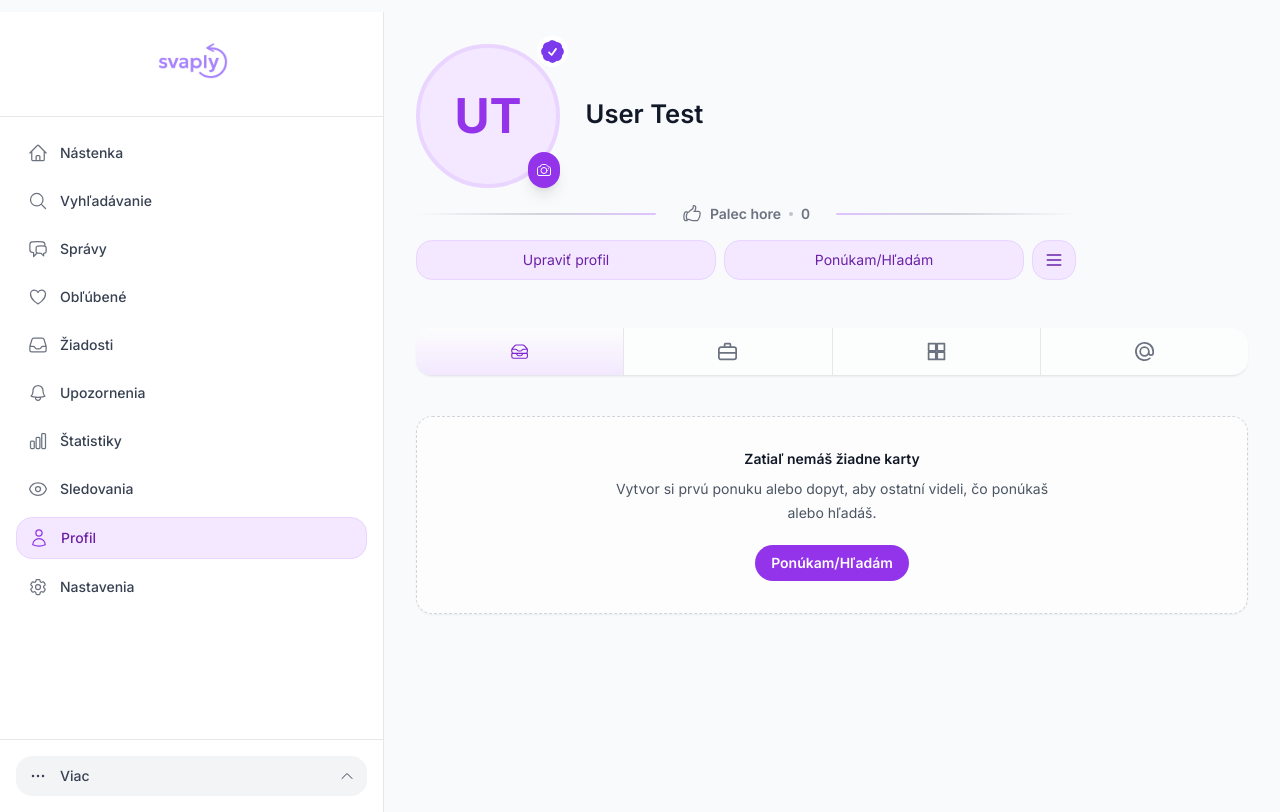
Test: Dashboard: scroll po uložení profilu naprieč zmenou obrazovky › desktop: po uložení zo scrollnutého formulára sa profil otvorí v novom <main> od začiatku
Click the button "Upraviť profil" at (566, 260), box [416,240,716,280]
(page scrolled)
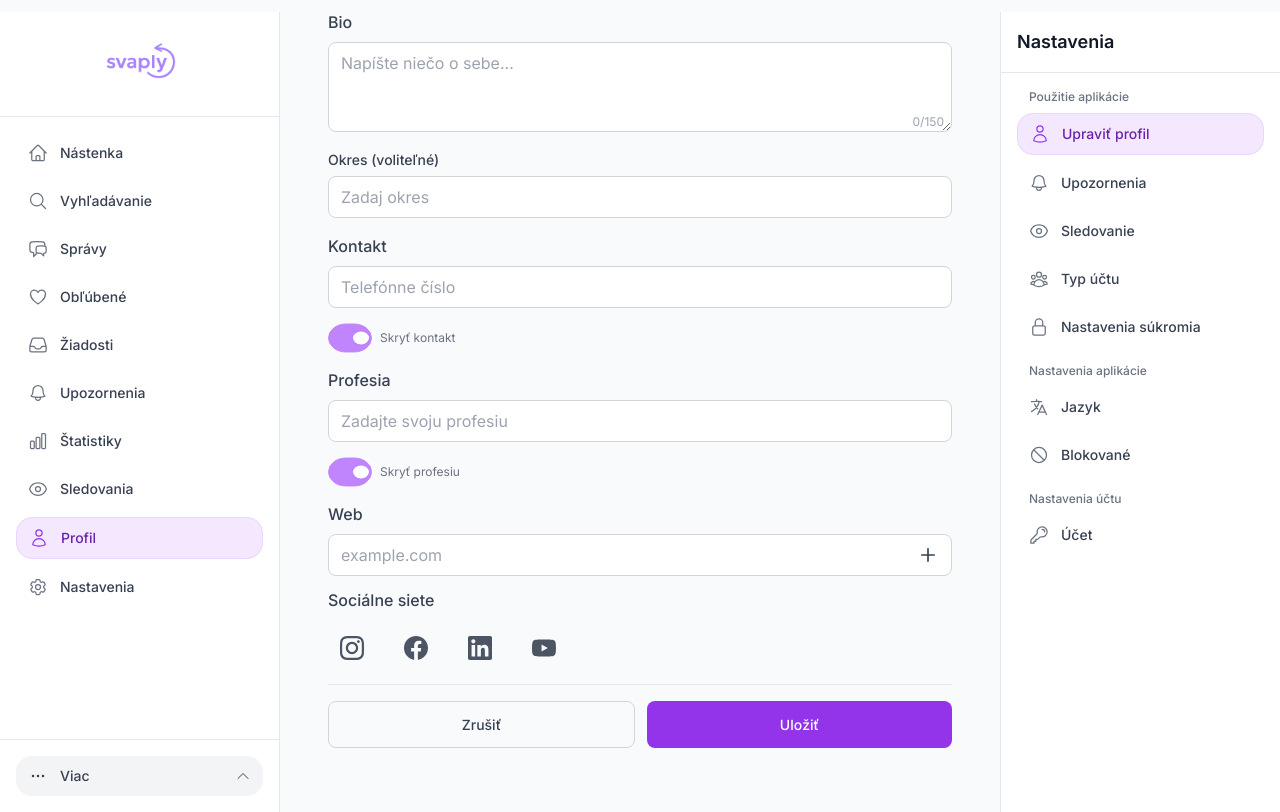
Check: the button "Uložiť" is shown
Click the button "Uložiť" at (800, 724), box [647,701,952,748]
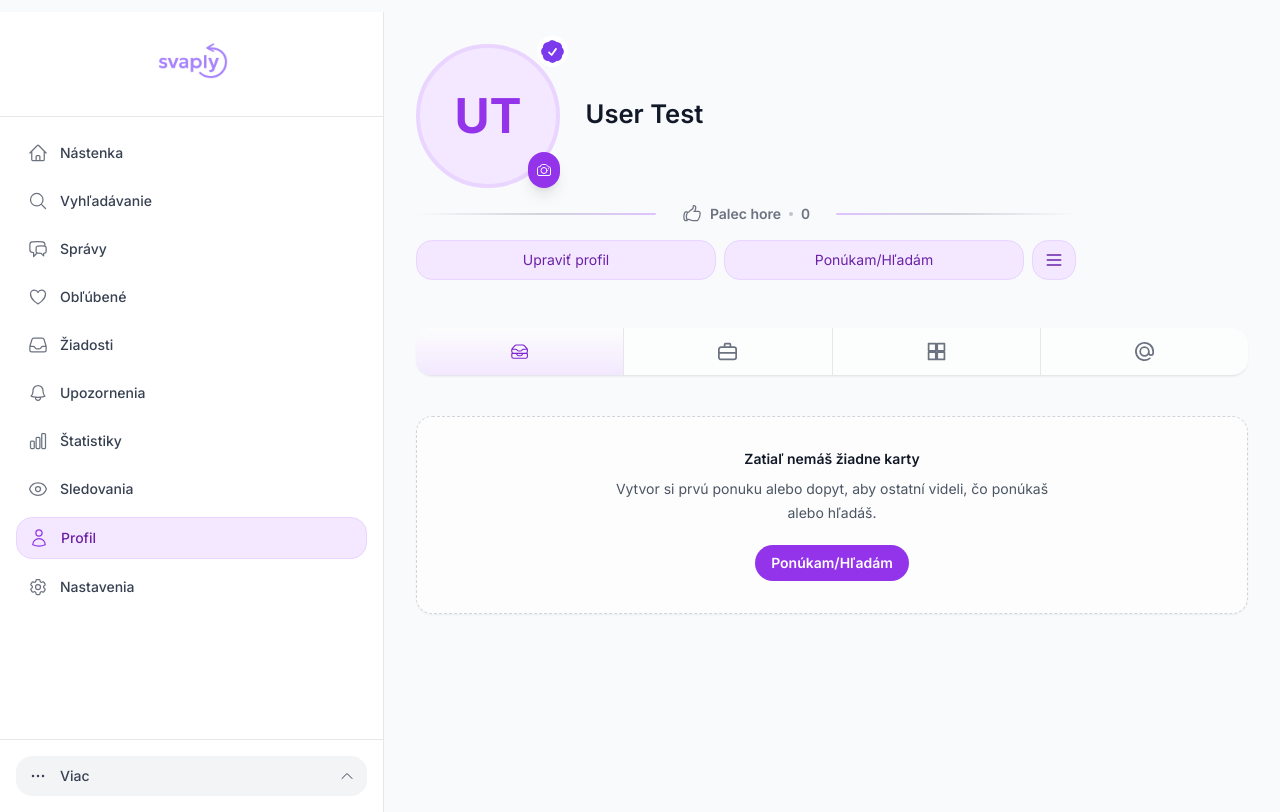
Check: the button "Uložiť" is gone
